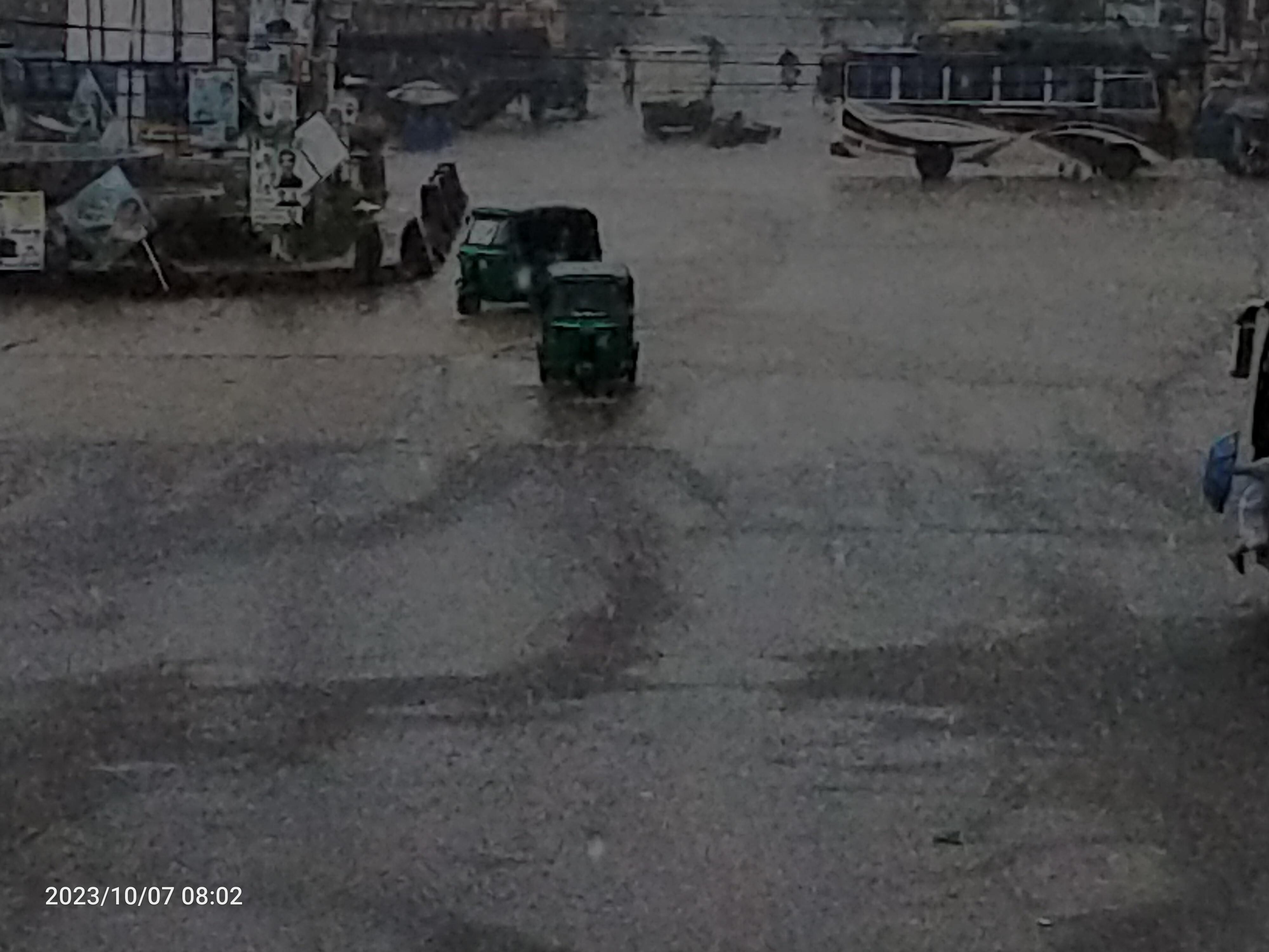Bike: (766, 33, 808, 101)
Bus: (801, 29, 1204, 214)
Truck: (621, 23, 731, 145)
